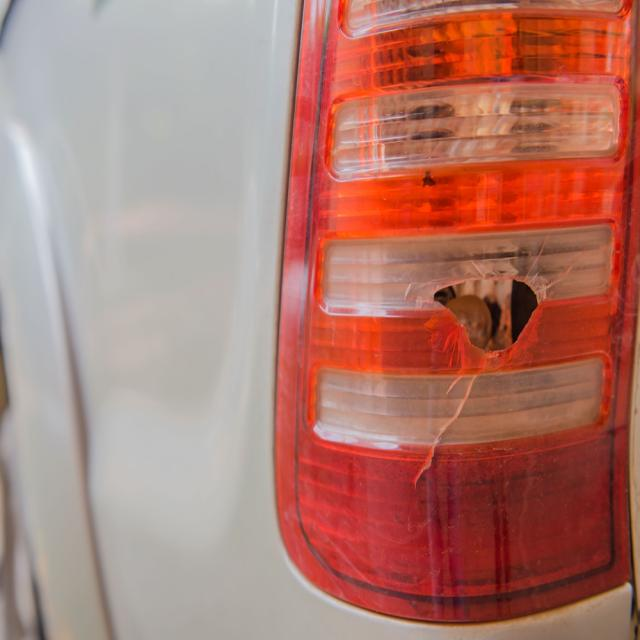lamp broken: (274, 0, 640, 627)
